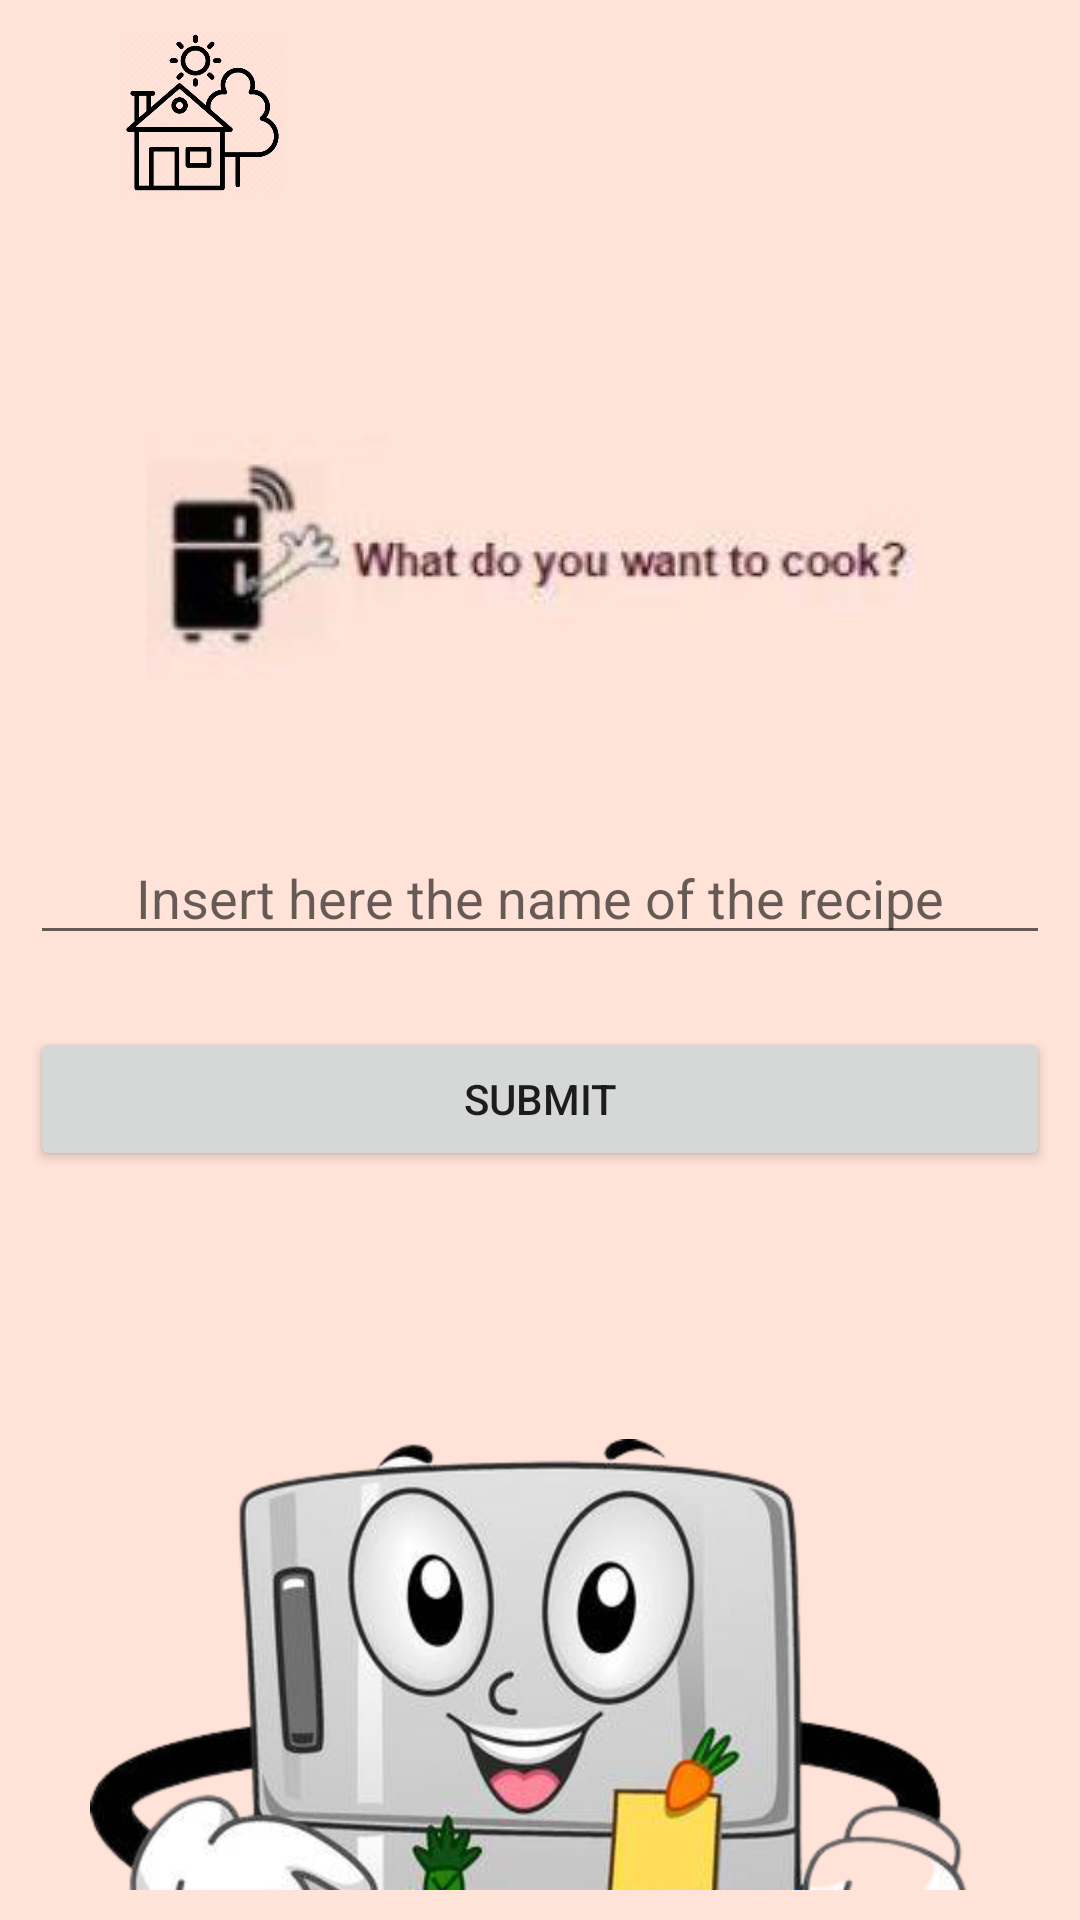

Named icons in this screenshot (1080x1920) and their centers, [x,y]:
house: [202,112]
